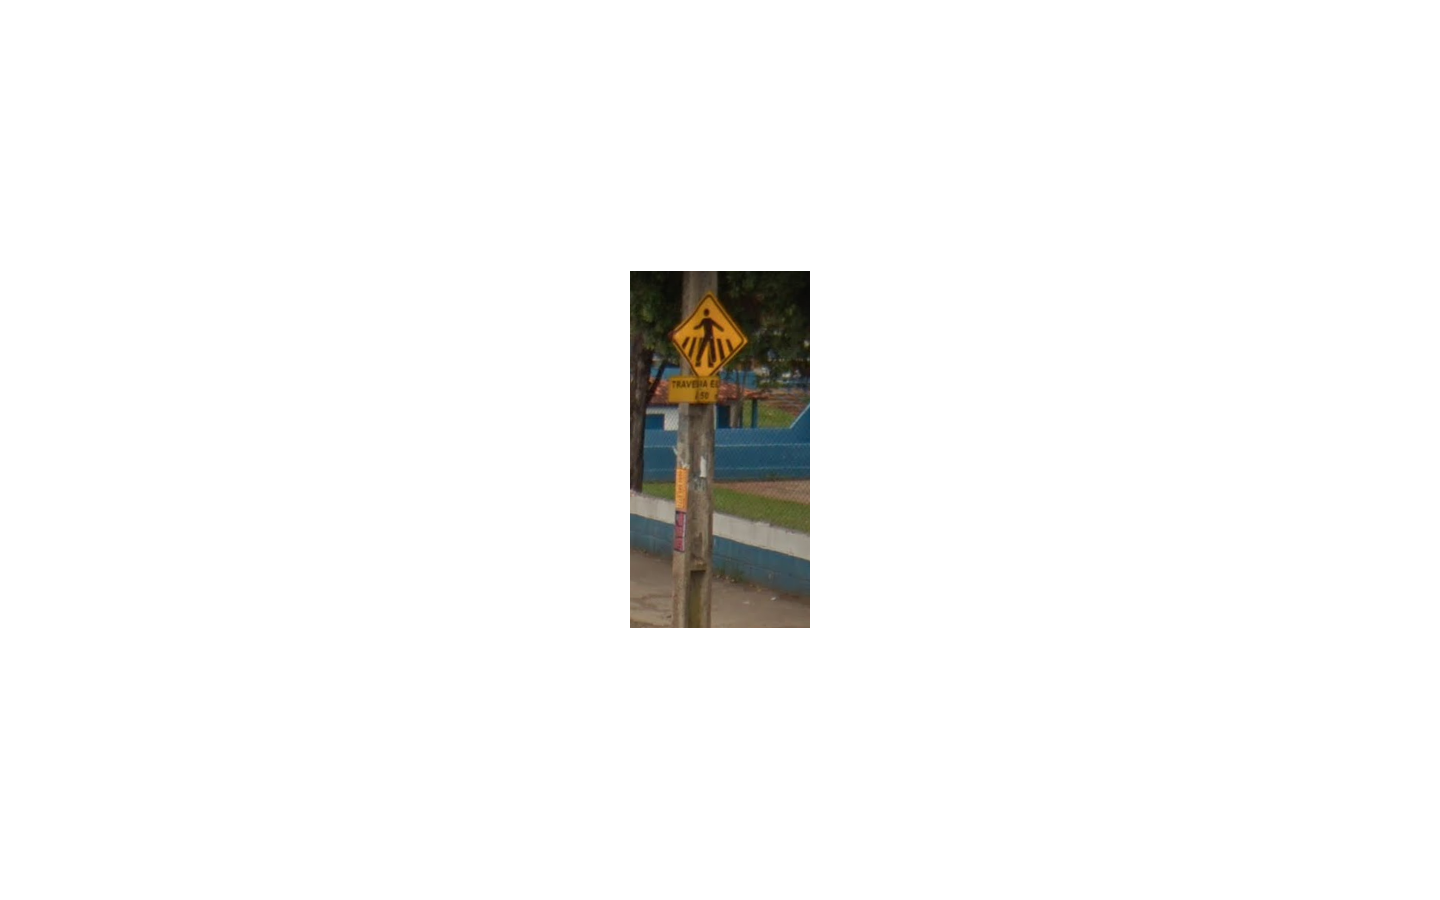t50m: (669, 291, 746, 402)
